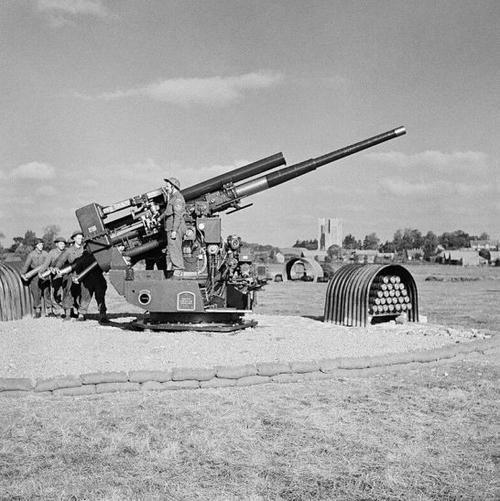MIL_SPG: (75, 126, 406, 331)
